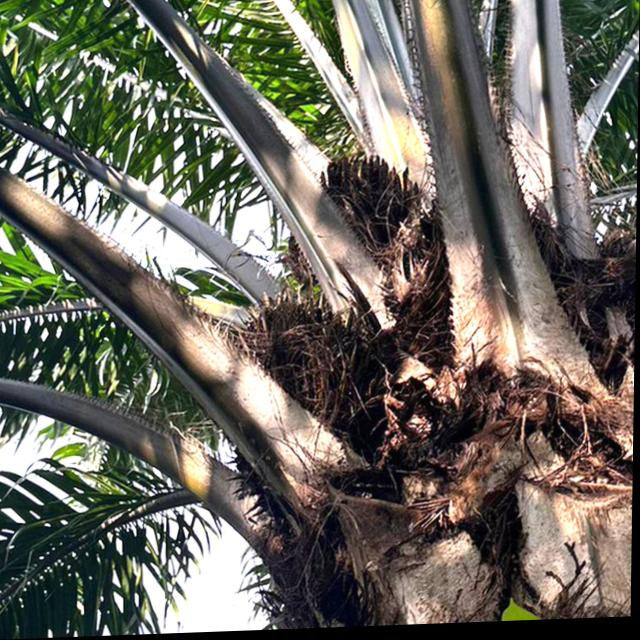ripe: (230, 276, 358, 414)
